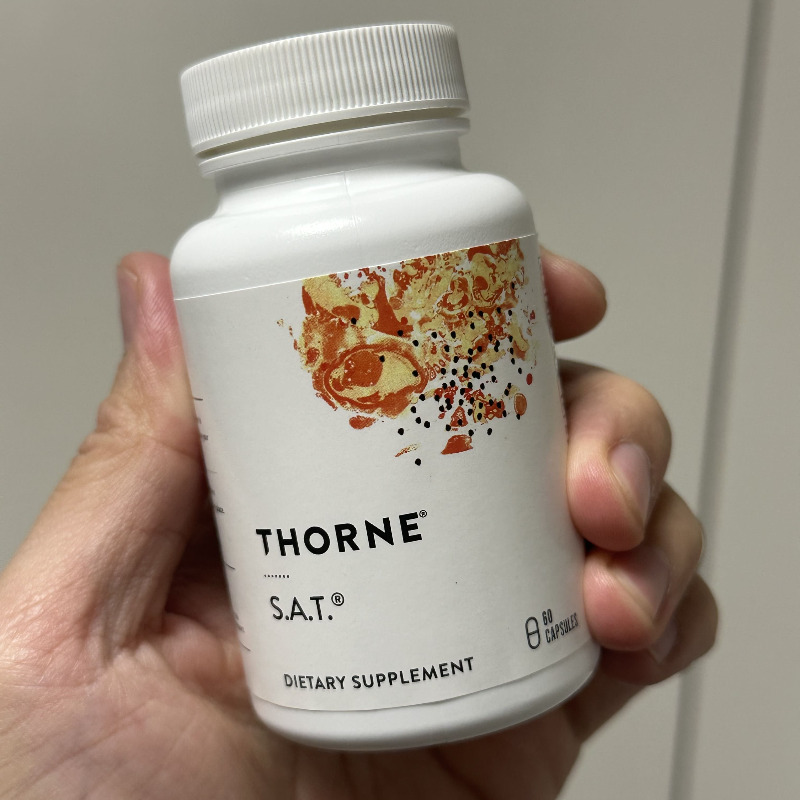supplement_label: (134, 222, 633, 721)
